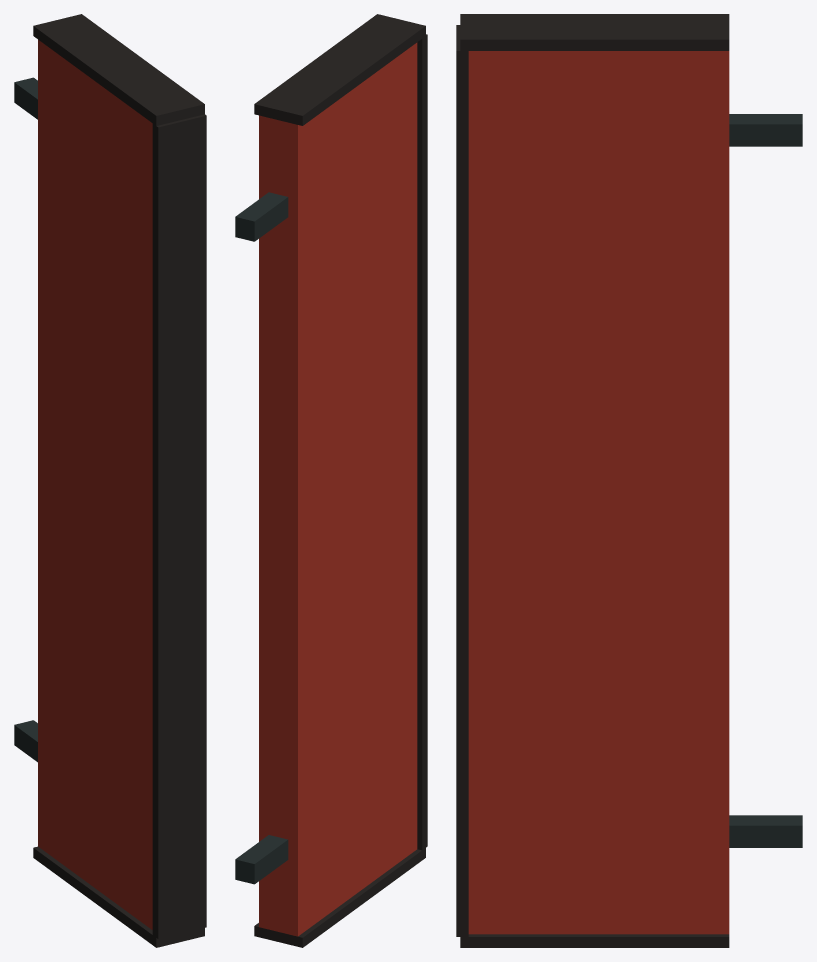
The model's file is bang_doc.glb.
3 views of the same model, side by side, from view 1: azimuth 30°, elevation 25°; view 2: azimuth 150°, elevation 25°; view 3: azimuth 270°, elevation 25° (orthographic). The views are drawn at different scales.
Parts seen in each view (by area): view 1: bang_doc; view 2: bang_doc; view 3: bang_doc.
Boxes of the visible parts, left/top/right/bottom form: bang_doc: left=14, top=14, right=206, bottom=947; bang_doc: left=235, top=14, right=427, bottom=947; bang_doc: left=456, top=14, right=802, bottom=947.
Size of the model in its own units: 0.15 by 2.46 by 0.85.
